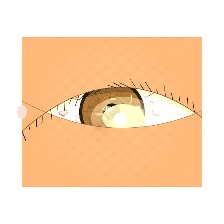corneal_ulcer: (89, 91, 157, 145)
